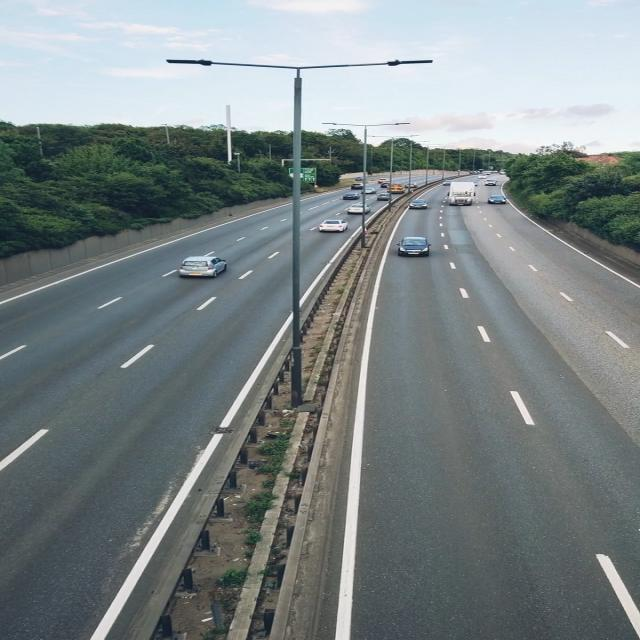Car: (176, 251, 236, 278), (395, 236, 436, 262), (323, 218, 352, 235), (346, 203, 375, 215), (409, 197, 431, 211), (488, 194, 510, 205), (376, 192, 396, 202), (361, 186, 377, 197), (342, 192, 359, 202), (347, 182, 366, 190), (440, 178, 455, 188), (374, 176, 392, 184), (483, 179, 499, 187), (404, 181, 419, 189), (477, 174, 488, 180)
Truck: (446, 180, 476, 208), (389, 182, 407, 195)
